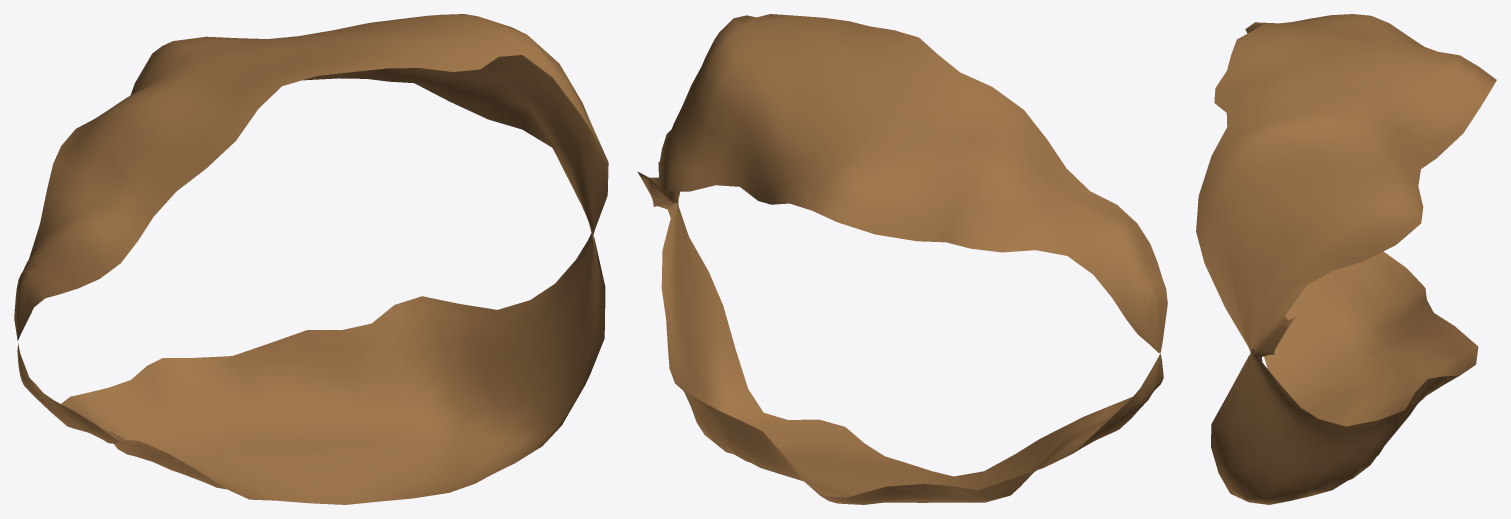
File: thorax_pleura.obj
3 views of the same model, side by side, from view 1: azimuth 30°, elevation 25°; view 2: azimuth 150°, elevation 25°; view 3: azimuth 270°, elevation 25° (orthographic). The views are drawn at different scales.
Bounding box in the file's own units: 0.1144 × 0.0865 × 0.0595.
